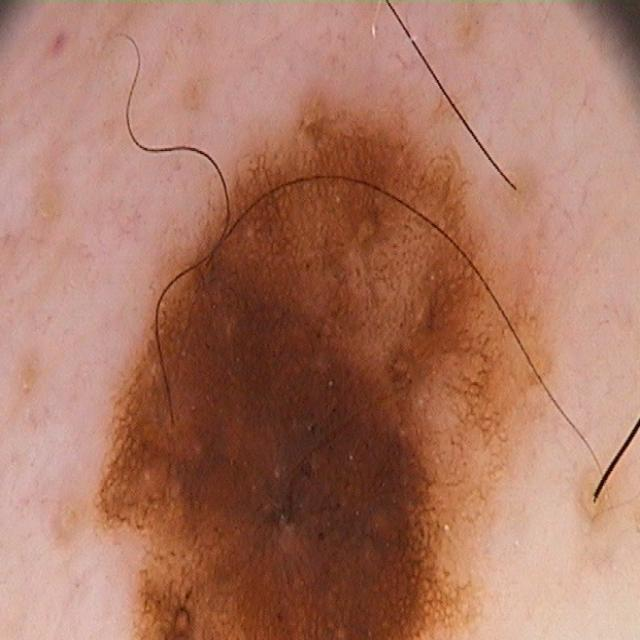Melanoma: (110, 102, 475, 640)
